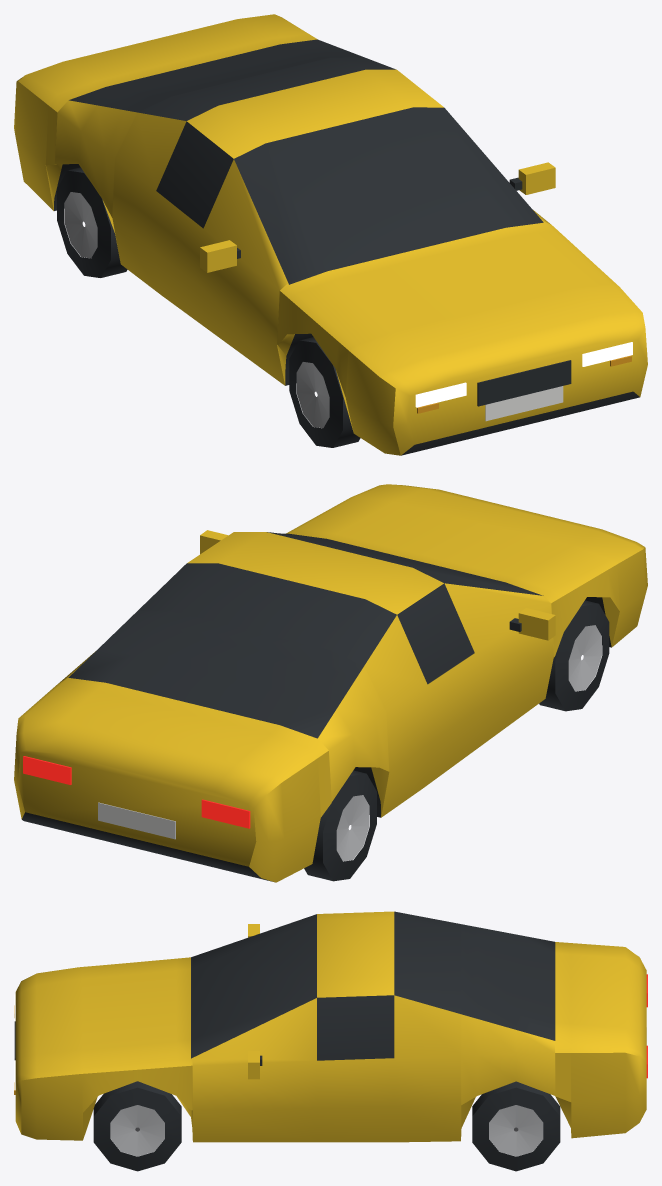
Rendered from coupe_yellow_lod1.glb.
3 views of the same model, one above another, from view 1: azimuth 30°, elevation 25°; view 2: azimuth 150°, elevation 25°; view 3: azimuth 270°, elevation 25° (orthographic). The views are drawn at different scales.
Parts seen in each view (by area): view 1: coupe_yellow_lod1; view 2: coupe_yellow_lod1; view 3: coupe_yellow_lod1.
Part boxes in pixels (left/top/right/bottom): coupe_yellow_lod1: left=14, top=14, right=647, bottom=455; coupe_yellow_lod1: left=14, top=484, right=647, bottom=882; coupe_yellow_lod1: left=14, top=911, right=647, bottom=1171.
Size of the model in its own units: 0.117 by 0.0675 by 0.2261.
